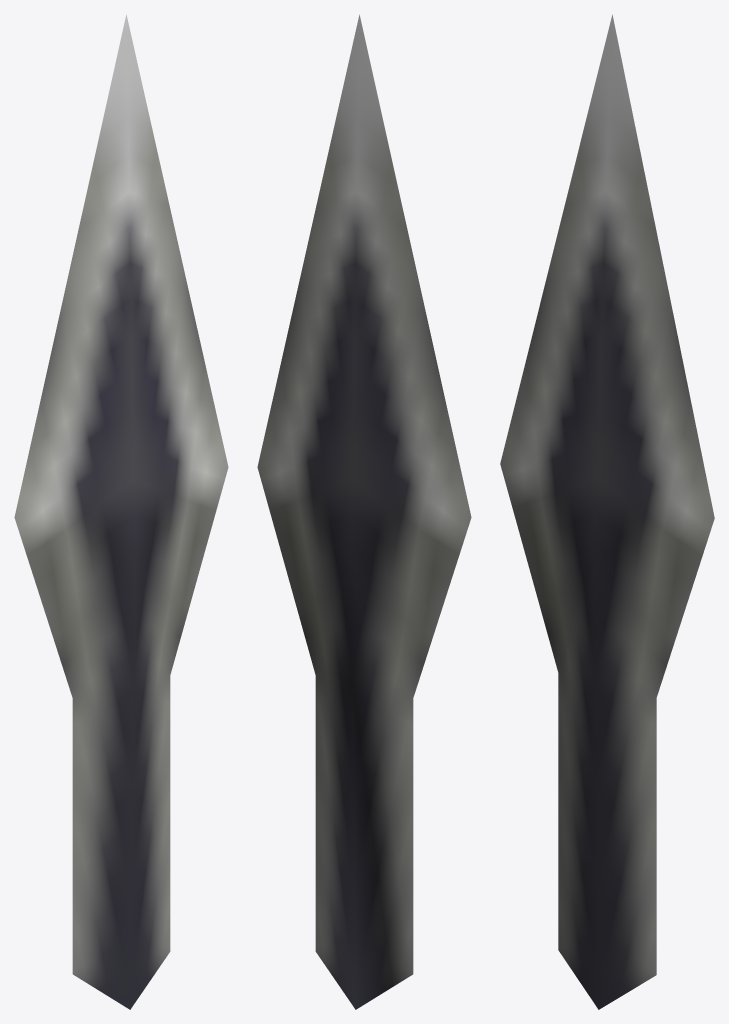
File: skill_eff_2302_attack1_fly.FBX
3 renders of one model, left to right at view 1: azimuth 30°, elevation 25°; view 2: azimuth 150°, elevation 25°; view 3: azimuth 330°, elevation 25°, orthographic.
Visible parts, largest first — view 1: skill_eff_2302_attack1_fly; view 2: skill_eff_2302_attack1_fly; view 3: skill_eff_2302_attack1_fly.
Boxes of the visible parts, x1,y1,x2,y2 form: skill_eff_2302_attack1_fly: (14, 14, 228, 1009); skill_eff_2302_attack1_fly: (257, 14, 471, 1009); skill_eff_2302_attack1_fly: (500, 14, 714, 1009).
Size of the model in its own units: 4.75 by 20.96 by 1.03.
